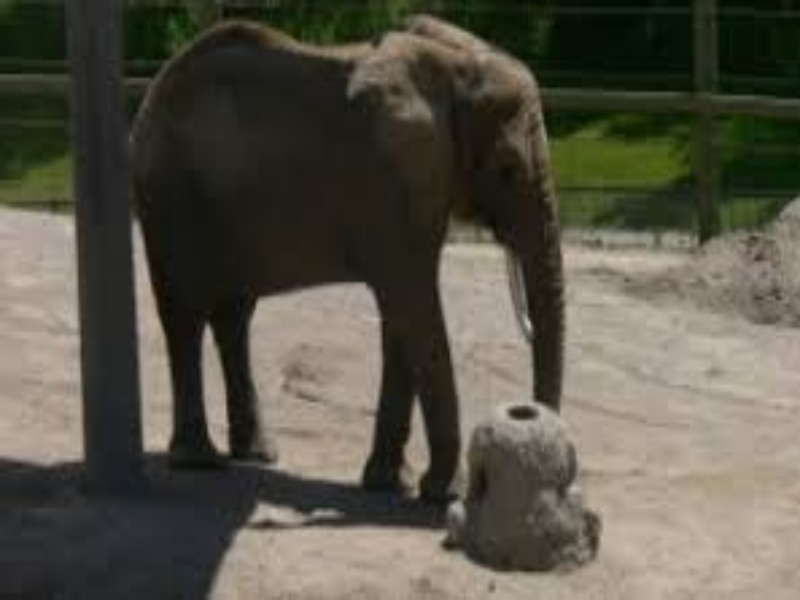elephant: (129, 9, 582, 497)
